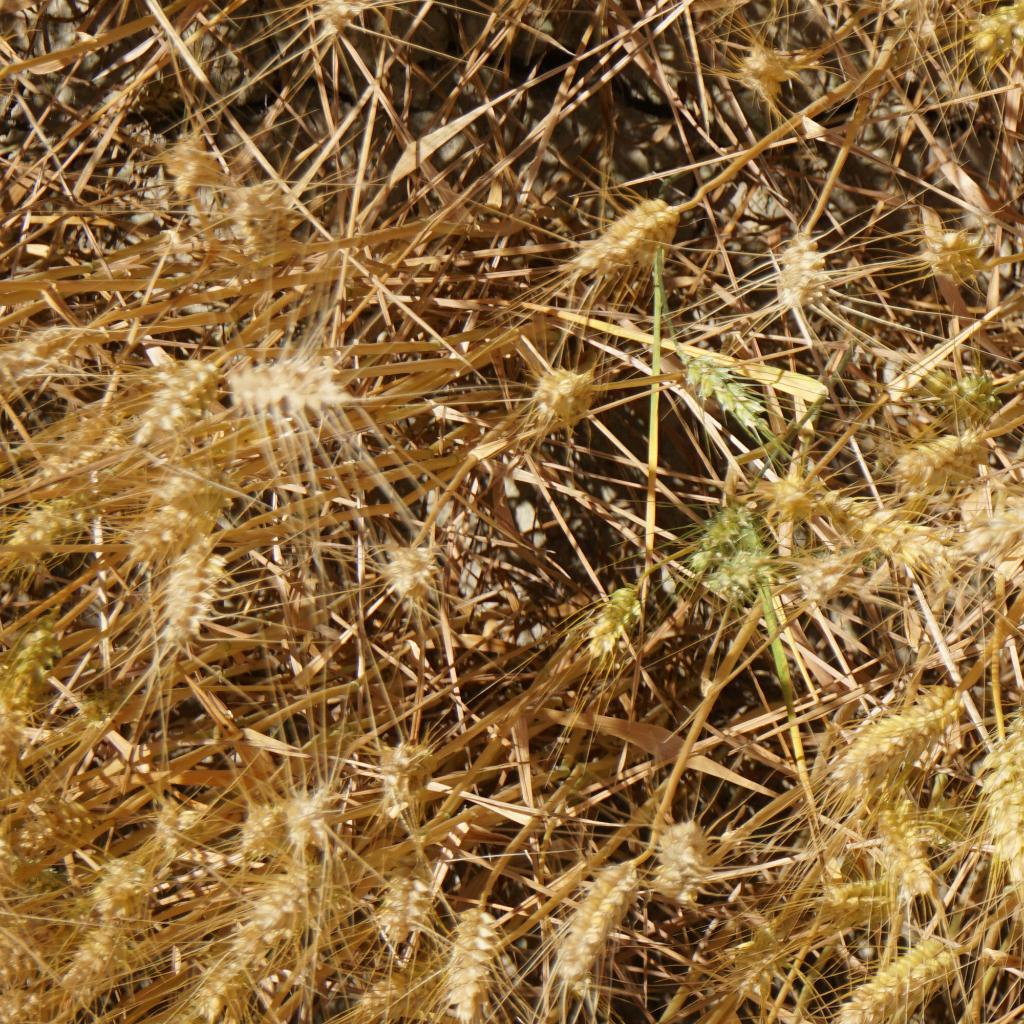0-0: (555, 855, 650, 991), (827, 930, 948, 1022), (565, 183, 685, 272), (240, 855, 328, 953), (828, 697, 919, 791), (157, 548, 232, 658), (219, 352, 351, 410), (450, 902, 509, 1024), (686, 354, 772, 433), (774, 232, 845, 325), (875, 803, 937, 909), (842, 499, 941, 565), (13, 787, 95, 866), (136, 360, 220, 437), (979, 742, 1024, 882), (3, 489, 81, 568), (41, 414, 122, 487), (886, 429, 996, 480), (375, 546, 456, 614), (723, 919, 788, 1003), (927, 358, 1010, 423), (519, 352, 593, 423), (921, 220, 987, 299), (188, 949, 257, 1024), (658, 809, 714, 900), (154, 132, 236, 194), (62, 912, 125, 990), (743, 27, 807, 102), (79, 851, 155, 914), (373, 733, 431, 812), (961, 474, 1024, 546), (768, 473, 846, 530), (5, 620, 51, 712), (578, 583, 640, 650), (115, 501, 189, 557), (0, 334, 77, 386), (380, 865, 425, 953), (238, 184, 296, 251), (283, 781, 334, 854), (790, 552, 855, 609), (818, 869, 890, 919), (683, 505, 747, 561), (151, 806, 212, 863), (970, 0, 1024, 54), (361, 970, 422, 1017), (156, 458, 219, 502), (713, 542, 763, 594), (241, 798, 288, 851), (0, 924, 39, 978), (320, 0, 381, 32), (0, 986, 46, 1019)
